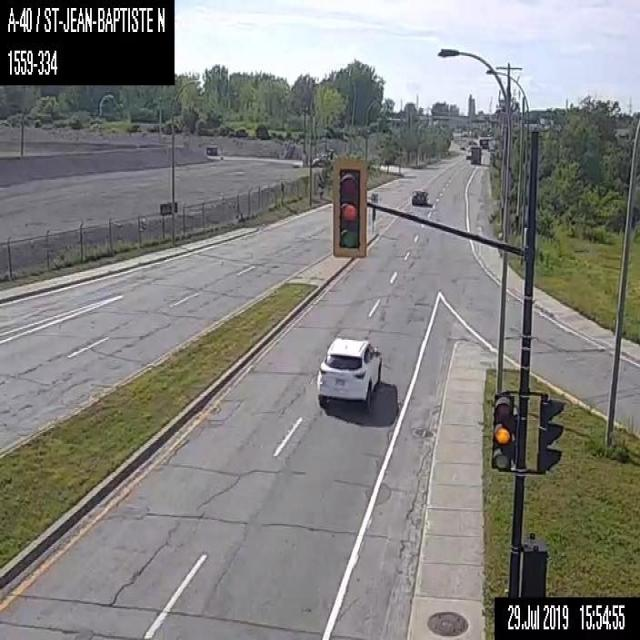vehicle: (314, 336, 382, 409), (411, 189, 427, 205), (469, 145, 481, 163)
